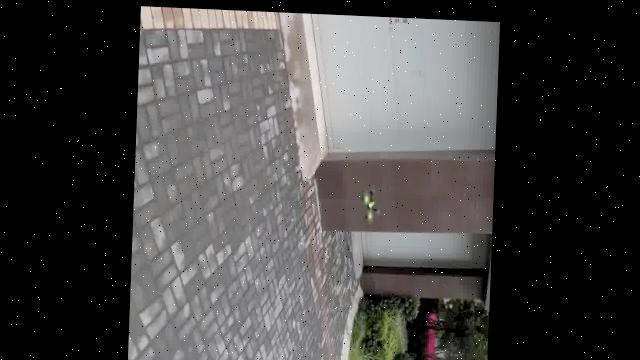drone: (360, 174, 385, 222)
